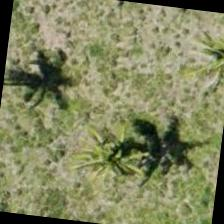Kelapa_Sawit: (68, 106, 168, 206), (170, 9, 223, 107)
